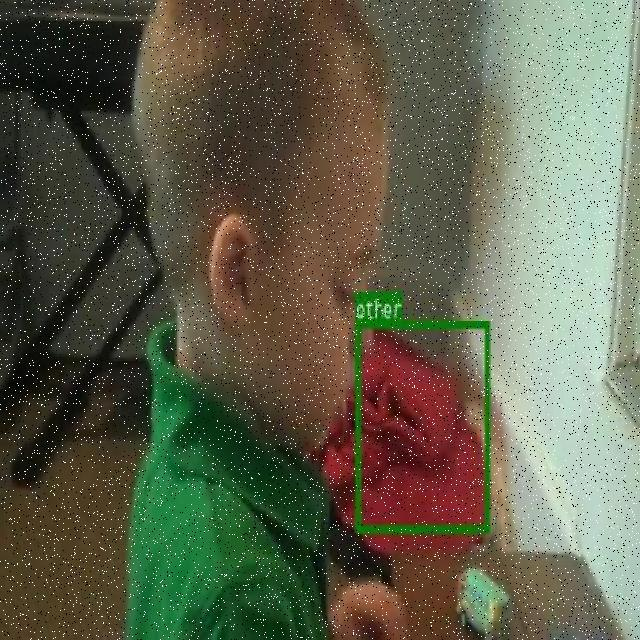other: (354, 318, 488, 531)
